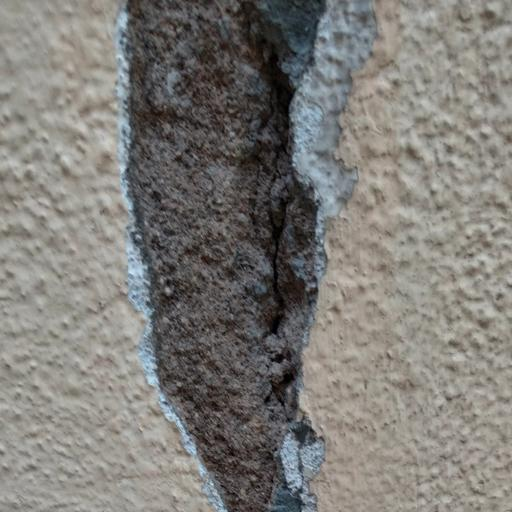spalling: (107, 0, 368, 512)
